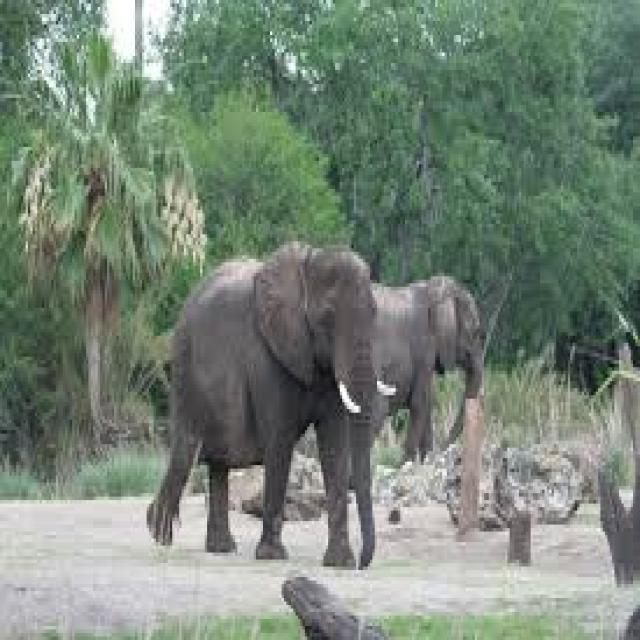Elephant: (144, 238, 396, 566)
